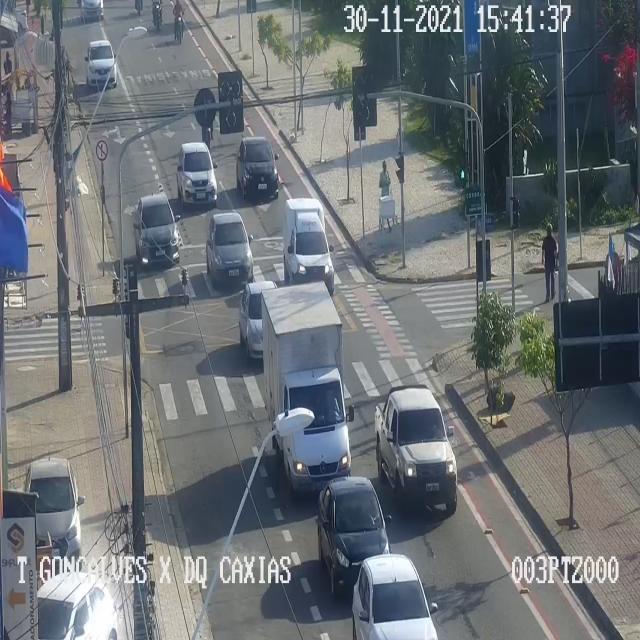Car: (374, 387, 460, 519), (317, 475, 393, 593), (351, 555, 436, 639), (23, 458, 84, 560), (35, 573, 117, 639), (284, 199, 335, 297), (131, 193, 183, 267), (205, 212, 253, 292), (238, 281, 280, 360), (176, 143, 220, 205), (235, 138, 278, 200), (84, 39, 116, 88), (80, 0, 106, 27)
Motorcycle: (149, 0, 164, 36), (173, 1, 185, 46)
Truck: (261, 282, 355, 496)
